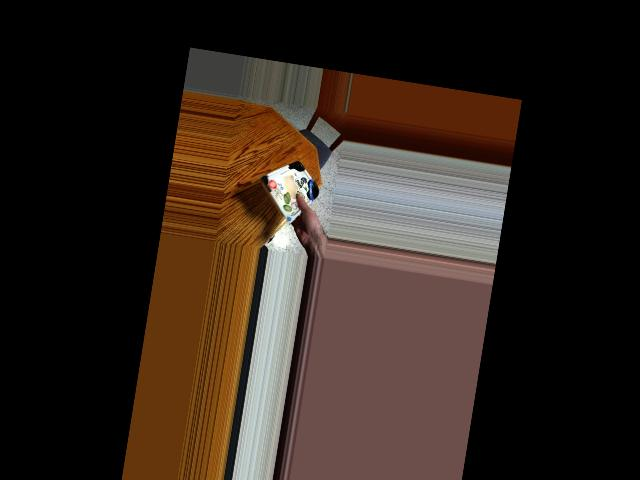cheese: (264, 158, 315, 220)
